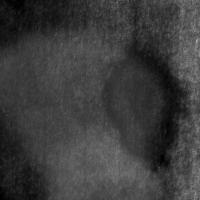patches: (2, 25, 162, 185), (0, 26, 97, 132), (102, 45, 180, 163), (44, 132, 162, 200)
